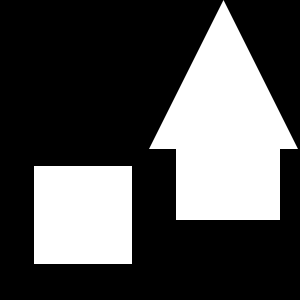circle: (176, 116, 280, 220), (34, 166, 132, 264)
triangle: (149, 0, 298, 149)
